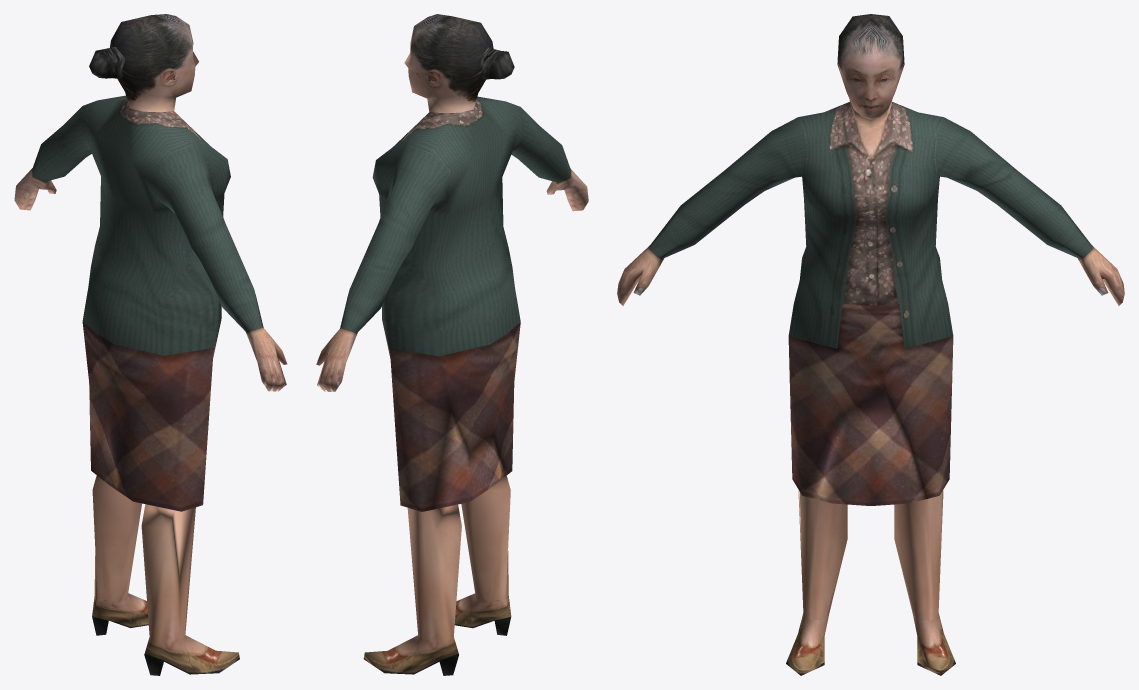
Rendered from Granny01.obj.
The picture shows the model from 3 angles, left to right: view 1: azimuth 30°, elevation 25°; view 2: azimuth 150°, elevation 25°; view 3: azimuth 270°, elevation 25°; orthographic projection.
Bounding box in the file's own units: 0.3283 × 1.59 × 1.15.
Materials: 1 (1 with a texture image).
